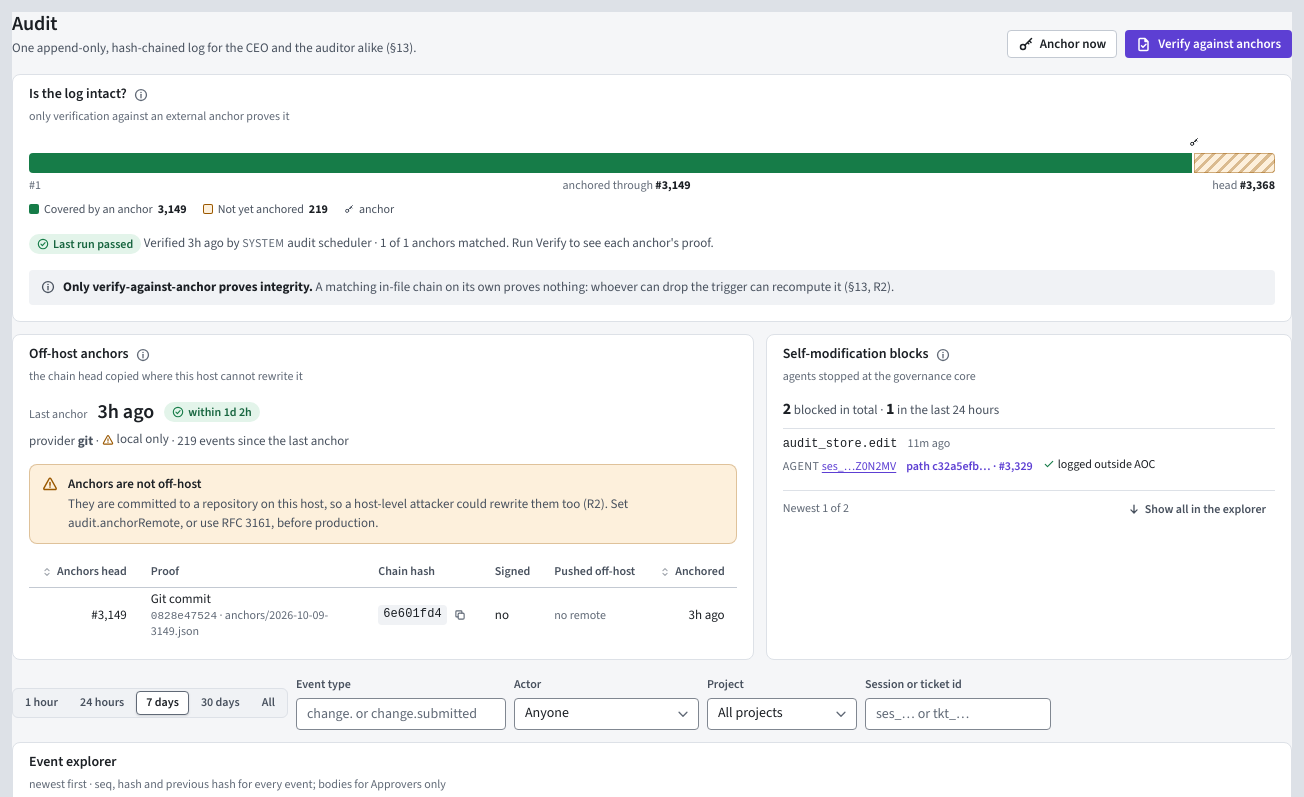
Test: Audit › verifies against the anchors and shows each anchor’s proof
The width and height of the screenshot is (1304, 797).
Click the button "Verify against anchors".
click(1209, 44)  # box [1125,30,1292,58]
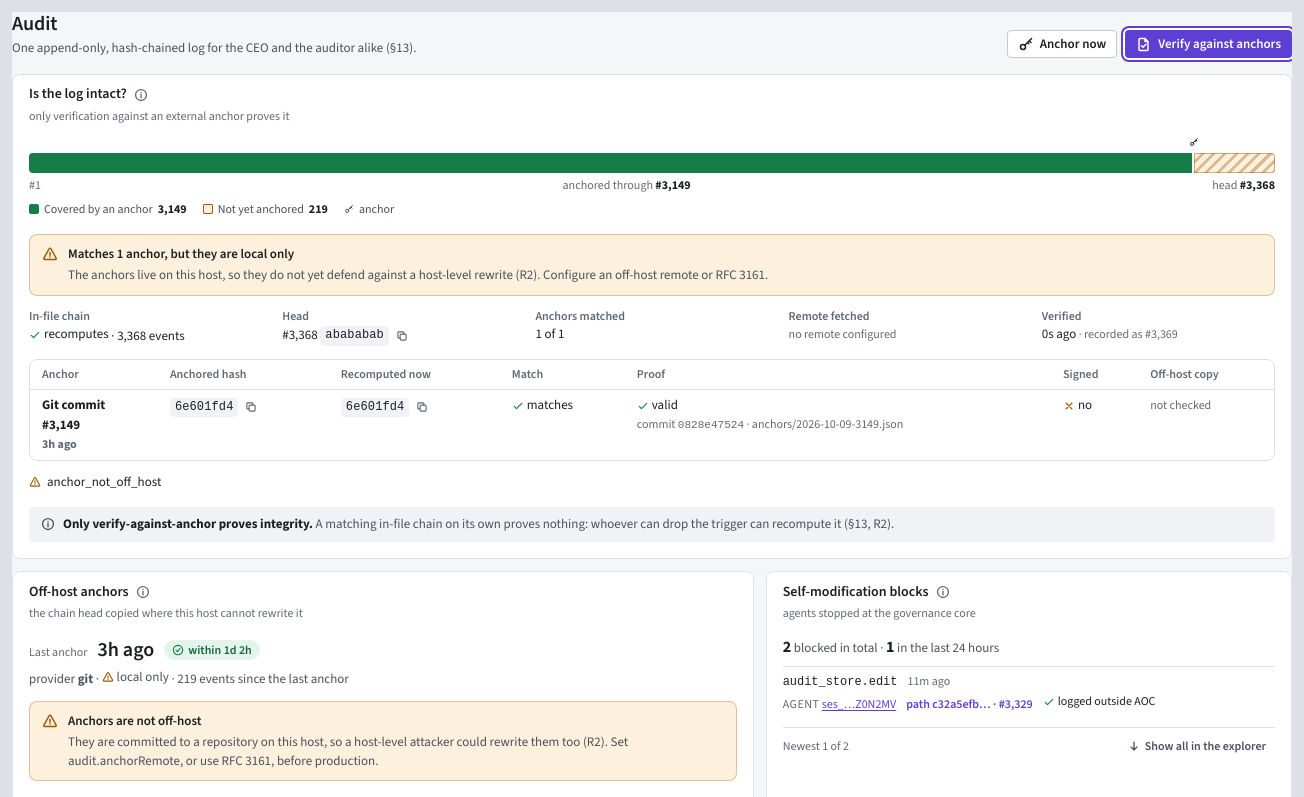
Check: the text "Matches 1 anchor, but they are local only" is shown, box [68,245,294,262]
Check: the text "#3,149" below "Anchored hash" is shown, box [42,416,80,433]
Check: the column heading "Match" is shown, box [500,360,625,390]
